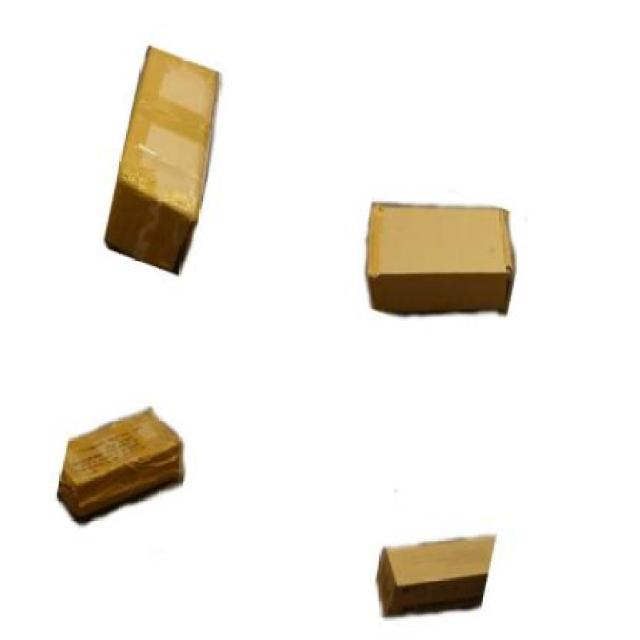cardboxes: (104, 48, 218, 270), (368, 208, 515, 312), (66, 411, 180, 523), (380, 527, 486, 616)
